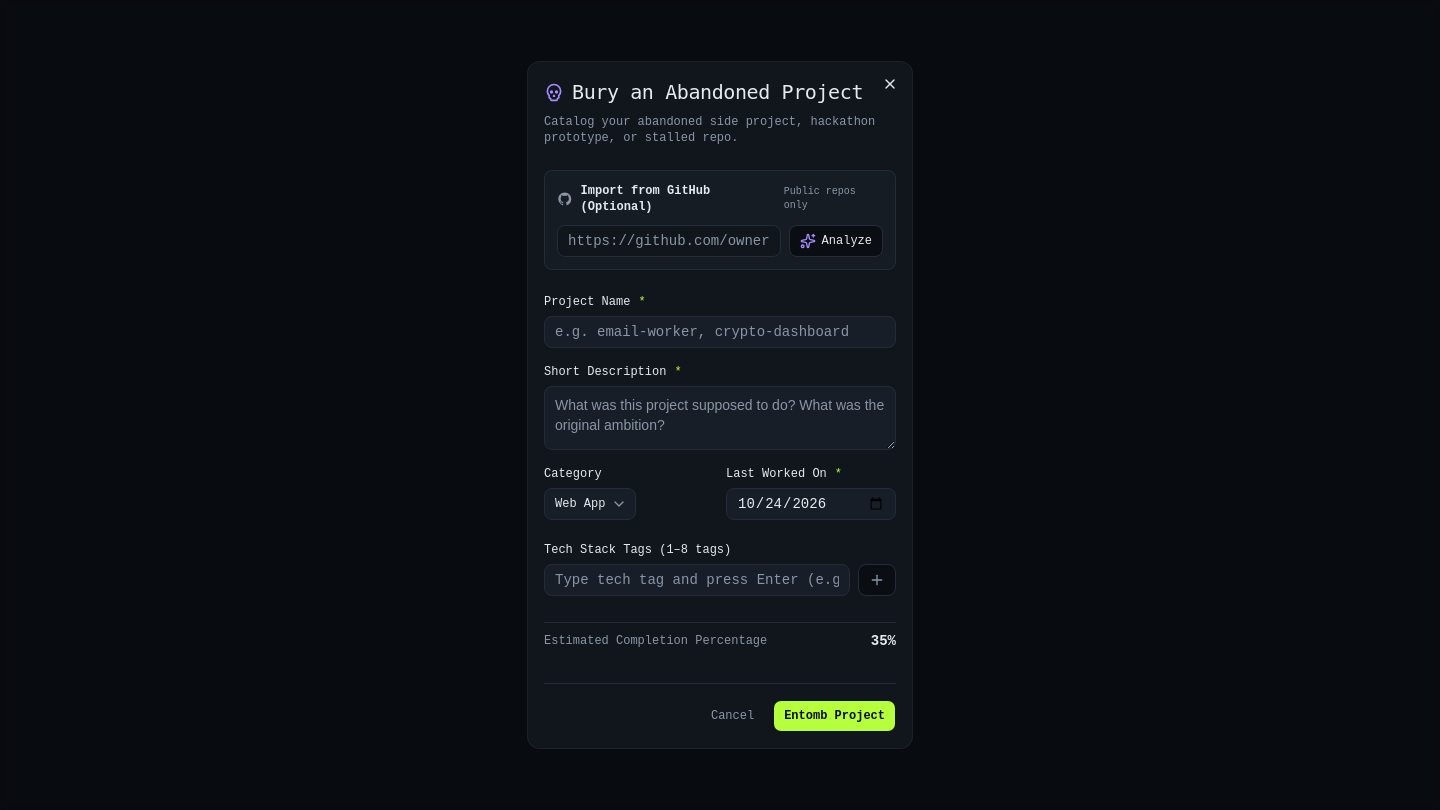
BuryProjectDialog - GitHub Import › fetches repo analysis and renders suggestion card with apply button
Type "https://github.com/owner/awesome-worker" into the field with placeholder "https://github.com/owner/repo" at [669, 241], box x1=557 y1=225 x2=781 y2=257
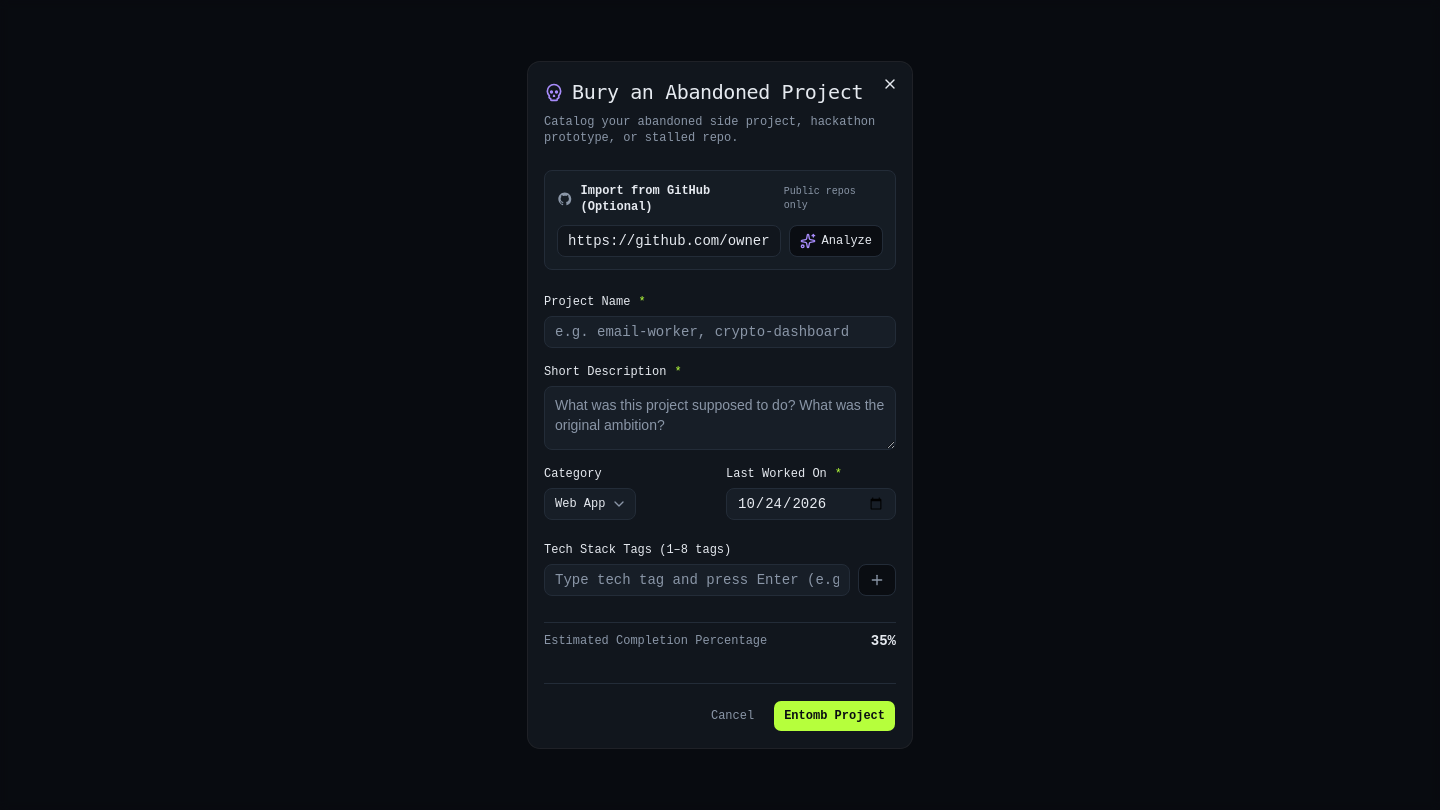
Click the button "Analyze" at [836, 241], box x1=789 y1=225 x2=883 y2=257
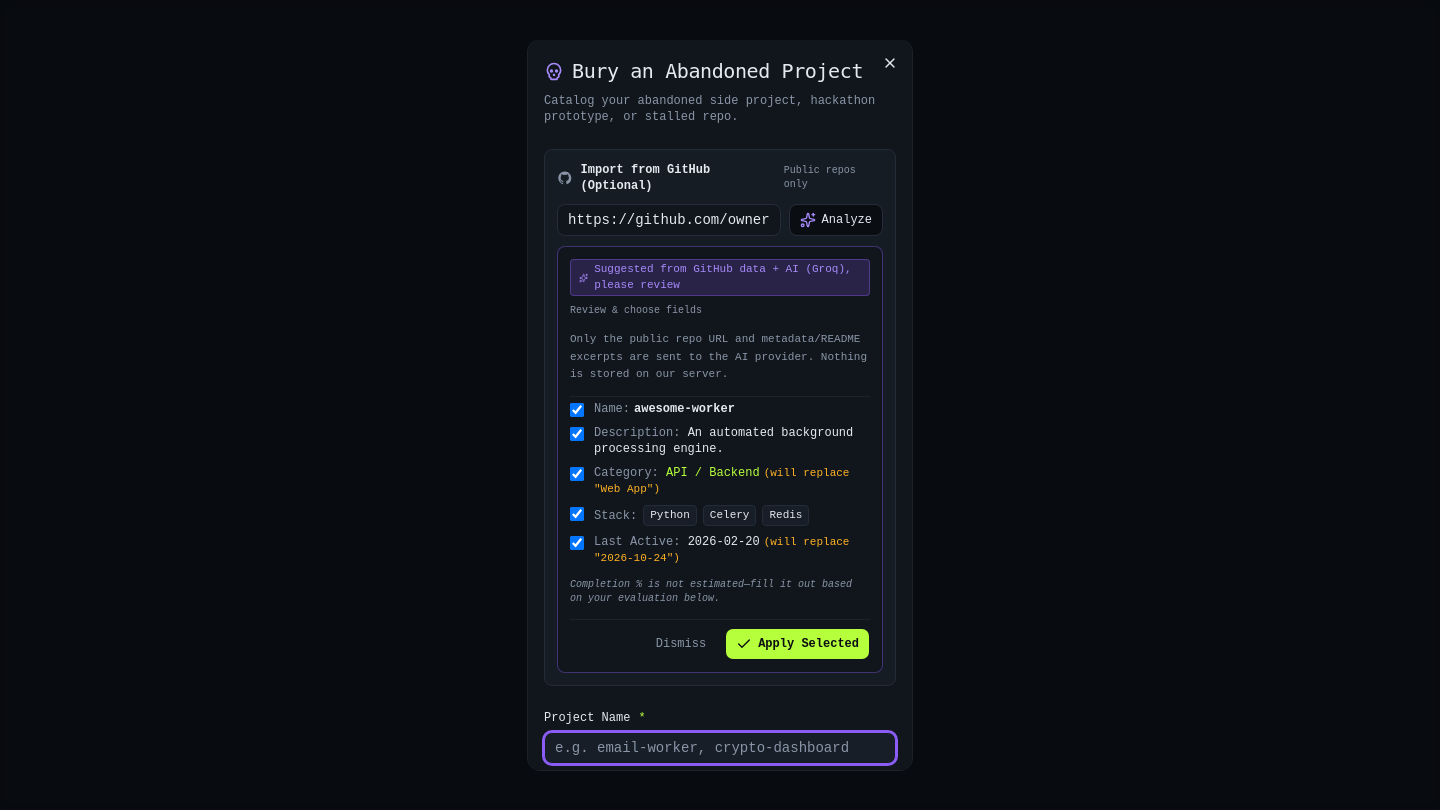
Check: the text "Suggested from GitHub data + AI (Groq), please review" is shown, box x1=570 y1=258 x2=870 y2=296
Check: the text "Only the public repo URL and metadata/README excerpts are sent" is shown, box x1=570 y1=332 x2=867 y2=380
Check: the text "awesome-worker" is shown, box x1=634 y1=401 x2=735 y2=417
# Click Apply Selected
Click the button "Apply Selected" at [798, 643], box x1=725 y1=627 x2=870 y2=659
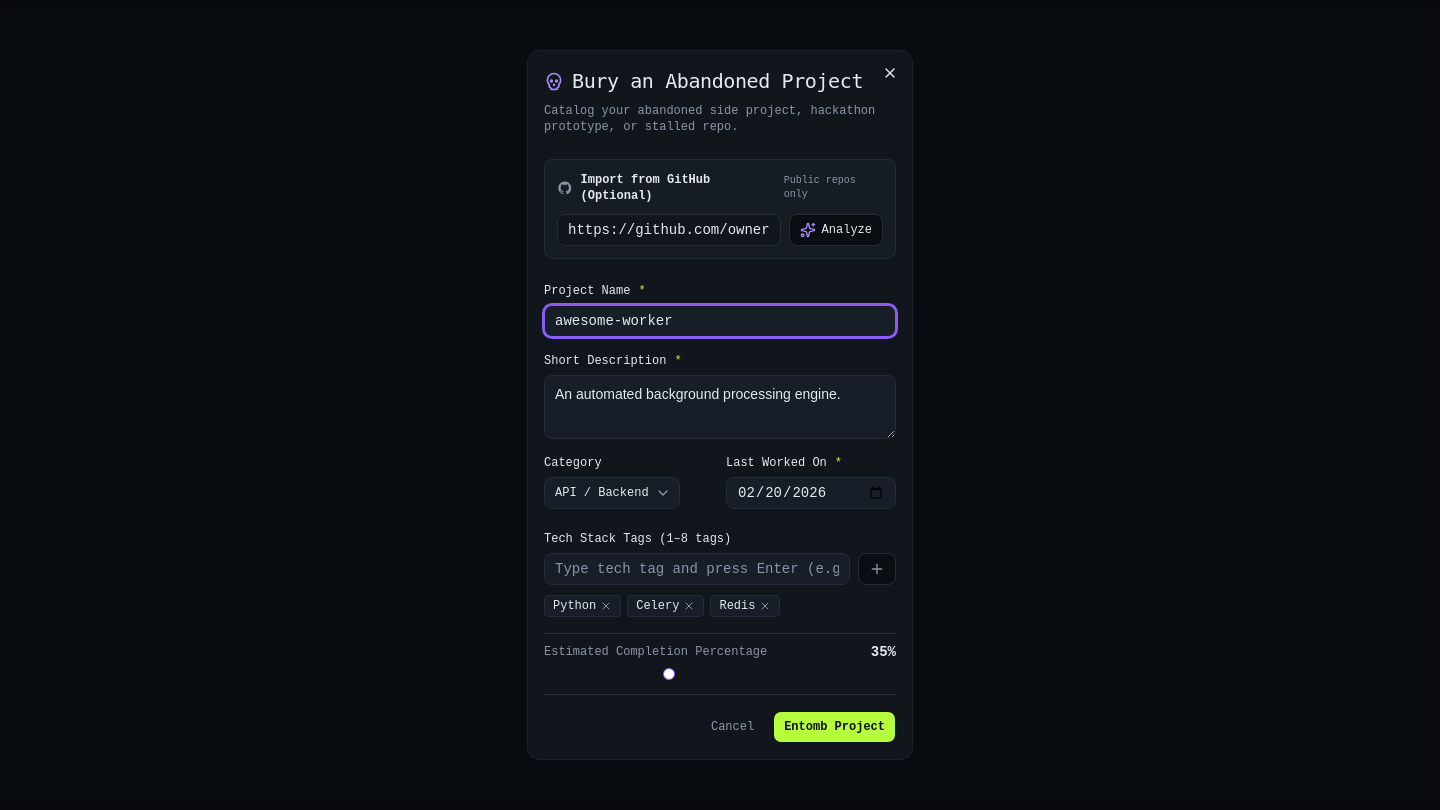
Check: the field labelled "Project Name *" holds "awesome-worker", box x1=544 y1=305 x2=896 y2=337
Check: the text box labelled "Short Description *" holds "An automated background processing engine.", box x1=544 y1=375 x2=896 y2=439
